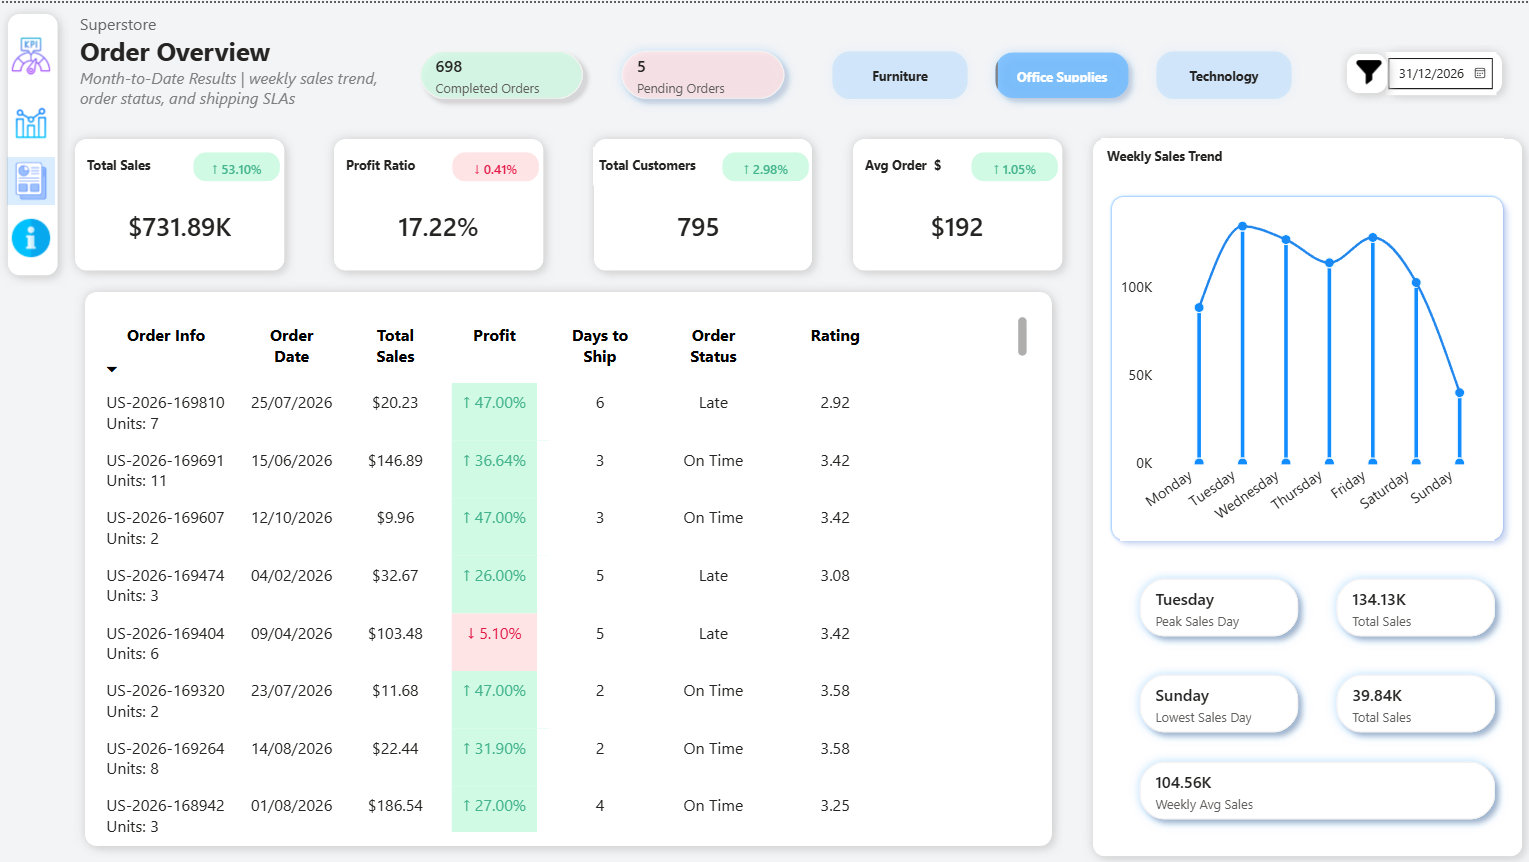

The dashboard page shown, as its layout file describes it:
{"tool":"powerbi","page":{"name":"Order overview","canvas":[1280,720],"ordinal":2},"visuals":[{"type":"shape","title":"Shape_base","box":[0,0,59.7,236.1],"z":0,"group":"g9"},{"type":"advancedSlicerVisual","fields":{"Values":["Orders.Category"]},"box":[680,24,416,72],"z":0,"group":"g5"},{"type":"shape","box":[1147.2,32,115.9,53.4],"z":0,"group":"g2"},{"type":"shape","box":[56,104,192.9,128],"z":0,"group":"g3"},{"type":"shape","box":[272,104,192.9,128],"z":0,"group":"g4"},{"type":"shape","box":[488,104,200,128],"z":0,"group":"g6"},{"type":"shape","box":[704,104,192.9,128],"z":0,"group":"g7"},{"type":"shape","box":[904,104,376,616],"z":0,"group":"g8"},{"type":"group","id":"g1","title":"Order_table","box":[64,232,824,480],"z":0},{"type":"shape","box":[64,232,824,480],"z":0,"group":"g1"},{"type":"actionButton","box":[8,176,40,40],"z":500,"group":"g9"},{"type":"tableEx","fields":{"Values":["Orders.Order Info","Orders.Order Date","Orders.Total Sales","Orders.Profit Margin","Orders.Days to Ship","Orders.Order Status Icon","Orders.Overall Score"]},"box":[80,256,784,440],"z":500,"group":"g1"},{"type":"actionButton","box":[8,24,40,40],"z":1000,"group":"g9"},{"type":"group","id":"g2","title":"Date","box":[1048,32,216,56],"z":1000},{"type":"slicer","fields":{"Values":["Date.Date"]},"box":[1057.2,41.2,191.8,35.9],"z":1000,"group":"g2"},{"type":"textbox","box":[718.3,120,92.9,32],"z":1000,"group":"g7"},{"type":"cardVisual","fields":{"Data":["Orders.Total Sales"]},"box":[70.3,152,164.3,64],"z":1000,"group":"g3"},{"type":"cardVisual","fields":{"Data":["Orders.Profit Margin"]},"box":[286.3,152,164.3,64],"z":1000,"group":"g4"},{"type":"cardVisual","fields":{"Data":["Orders.Total Customers"]},"box":[502.3,152,164.3,64],"z":1000,"group":"g6"},{"type":"shape","title":"Peak_sale","box":[920,152,344,304],"z":1000,"group":"g8"},{"type":"actionButton","box":[8,80,40,40],"z":1500,"group":"g9"},{"type":"shape","box":[1048,41.2,109.2,37.5],"z":2000,"group":"g2"},{"type":"textbox","box":[70.3,120,92.9,32],"z":2000,"group":"g3"},{"type":"textbox","box":[286.3,120,92.9,32],"z":2000,"group":"g4"},{"type":"textbox","box":[496,120,96,32],"z":2000,"group":"g6"},{"type":"actionButton","box":[8,128,40,40],"z":2000,"group":"g9"},{"type":"cardVisual","fields":{"Data":["Orders.Avg Order Value"]},"box":[720,152,160,64],"z":2000,"group":"g7"},{"type":"cardVisual","fields":{"Data":["Orders.Weekly Avg Sales"]},"box":[928,608,344,96],"z":2000,"group":"g8"},{"type":"textbox","title":"Title","box":[64,8,280,96],"z":3000},{"type":"shape","box":[1115.2,34,51.7,50.9],"z":3000,"group":"g2"},{"type":"cardVisual","fields":{"Data":["Orders.Sales YoY %"]},"box":[152,112,96,48],"z":3000,"group":"g3"},{"type":"cardVisual","title":"Indicator","fields":{"Data":["Orders.Profit Ratio Change"]},"box":[368,112,96,48],"z":3000,"group":"g4"},{"type":"cardVisual","fields":{"Data":["Orders.Customers YoY %"]},"box":[592,112,96,48],"z":3000,"group":"g6"},{"type":"cardVisual","fields":{"Data":["Orders.AOV YoY %"]},"box":[800,112,96,48],"z":3000,"group":"g7"},{"type":"cardVisual","fields":{"Data":["Orders.Lowest Sales Day","Orders.Total Sales"]},"box":[928,536,344,96],"z":3000,"group":"g8"},{"type":"cardVisual","fields":{"Data":["Orders.Total Completed Orders","Orders.Total Pending Orders"]},"box":[328,16,352,88],"z":4000},{"type":"image","box":[1130.2,43,25,29.2],"z":4000,"group":"g2"},{"type":"cardVisual","fields":{"Data":["Orders.Peak Sales Day","Orders.Total Sales"]},"box":[928,456,344,96],"z":4000,"group":"g8"},{"type":"group","id":"g3","title":"Sales KPI","box":[56,104,192.9,128],"z":5000},{"type":"lineStackedColumnComboChart","fields":{"Category":["Date.Day Name"],"Y":["Orders.Total Sales"],"Y2":["Orders.Total Sales"]},"box":[936,168,312,280],"z":5000,"group":"g8"},{"type":"group","id":"g4","title":"Profit_ratio","box":[272,104,192.9,128],"z":6000},{"type":"textbox","box":[920,112,336,32],"z":6000,"group":"g8"},{"type":"group","id":"g5","title":"Category_selector","box":[680,24,408,64],"z":7000},{"type":"group","id":"g6","title":"Customer ","box":[488,104,200,128],"z":8000},{"type":"group","id":"g7","title":"Avg_order","box":[704,104,192,128],"z":9000},{"type":"group","id":"g8","title":"Weekly_orders","box":[904,104,376,616],"z":10000},{"type":"group","id":"g9","title":"Navigation bar","box":[0,0,56,232],"z":11000}]}

Visuals, with their boxes in screenshot pixels (x1, y1, x2, y2), scaled from the page's 1280x720 canvas onto the 1529x862 screenshot:
"Shape_base" shape: bbox(0, 0, 71, 283)
advancedSlicerVisual - Orders.Category: bbox(812, 29, 1309, 115)
shape: bbox(1370, 38, 1509, 102)
shape: bbox(67, 125, 297, 278)
shape: bbox(325, 125, 555, 278)
shape: bbox(583, 125, 822, 278)
shape: bbox(841, 125, 1071, 278)
shape: bbox(1080, 125, 1528, 861)
"Order_table" group: bbox(76, 278, 1061, 852)
shape: bbox(76, 278, 1061, 852)
actionButton: bbox(10, 211, 57, 259)
tableEx - Orders.Order Info x Orders.Order Date: bbox(96, 306, 1032, 833)
actionButton: bbox(10, 29, 57, 77)
"Date" group: bbox(1252, 38, 1510, 105)
slicer - Date.Date: bbox(1263, 49, 1492, 92)
textbox: bbox(858, 144, 969, 182)
cardVisual - Orders.Total Sales: bbox(84, 182, 280, 259)
cardVisual - Orders.Profit Margin: bbox(342, 182, 538, 259)
cardVisual - Orders.Total Customers: bbox(600, 182, 796, 259)
"Peak_sale" shape: bbox(1099, 182, 1510, 546)
actionButton: bbox(10, 96, 57, 144)
shape: bbox(1252, 49, 1382, 94)
textbox: bbox(84, 144, 195, 182)
textbox: bbox(342, 144, 453, 182)
textbox: bbox(592, 144, 707, 182)
actionButton: bbox(10, 153, 57, 201)
cardVisual - Orders.Avg Order Value: bbox(860, 182, 1051, 259)
cardVisual - Orders.Weekly Avg Sales: bbox(1109, 728, 1519, 843)
"Title" textbox: bbox(76, 10, 411, 125)
shape: bbox(1332, 41, 1394, 102)
cardVisual - Orders.Sales YoY %: bbox(182, 134, 296, 192)
"Indicator" cardVisual: bbox(440, 134, 554, 192)
cardVisual - Orders.Customers YoY %: bbox(707, 134, 822, 192)
cardVisual - Orders.AOV YoY %: bbox(956, 134, 1070, 192)
cardVisual - Orders.Lowest Sales Day x Orders.Total Sales: bbox(1109, 642, 1519, 757)
cardVisual - Orders.Total Completed Orders x Orders.Total Pending Orders: bbox(392, 19, 812, 125)
image: bbox(1350, 51, 1380, 86)
cardVisual - Orders.Peak Sales Day x Orders.Total Sales: bbox(1109, 546, 1519, 661)
"Sales KPI" group: bbox(67, 125, 297, 278)
lineStackedColumnComboChart - Date.Day Name x Orders.Total Sales: bbox(1118, 201, 1491, 536)
"Profit_ratio" group: bbox(325, 125, 555, 278)
textbox: bbox(1099, 134, 1500, 172)
"Category_selector" group: bbox(812, 29, 1300, 105)
"Customer " group: bbox(583, 125, 822, 278)
"Avg_order" group: bbox(841, 125, 1070, 278)
"Weekly_orders" group: bbox(1080, 125, 1528, 861)
"Navigation bar" group: bbox(0, 0, 67, 278)
